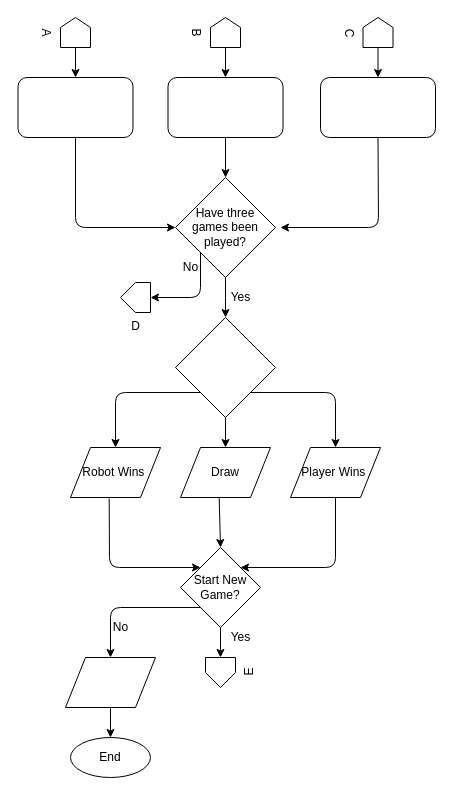
The diagram is 453 pixels wide and 795 high, and some of its shapes have lost their labels. The box of each missing label's shape, as (x1, y1, x2, y2) in pixels:
Increase Draw Count: (167, 76, 283, 138)
Increase Player Win Count: (320, 76, 436, 138)
Increase Robot Win Count: (17, 76, 133, 138)
Power Off: (64, 656, 156, 708)
Who Wins?: (174, 316, 276, 418)
